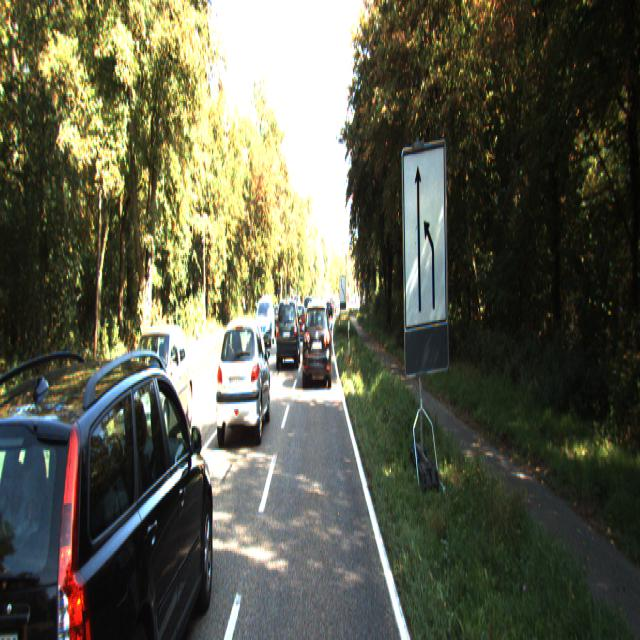Car: (0, 331, 217, 638), (108, 322, 195, 458), (215, 311, 270, 445), (301, 297, 331, 386), (276, 297, 300, 367), (253, 291, 274, 340)
